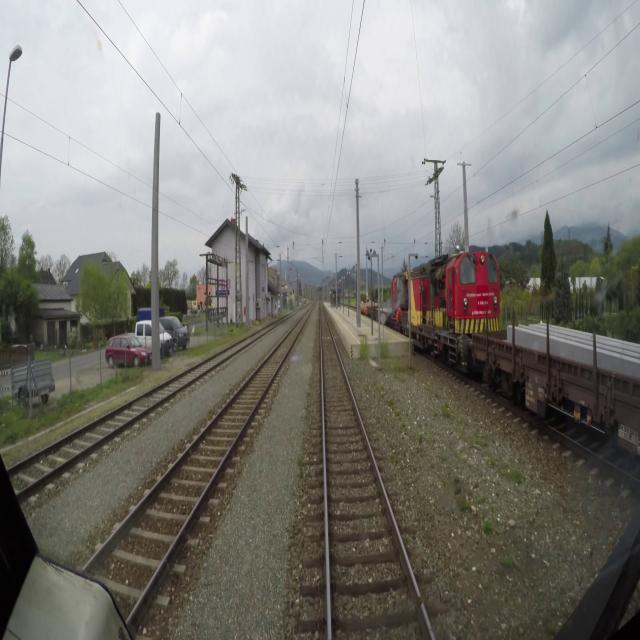rail-track: (89, 311, 309, 615), (8, 331, 262, 489), (321, 305, 430, 639)
